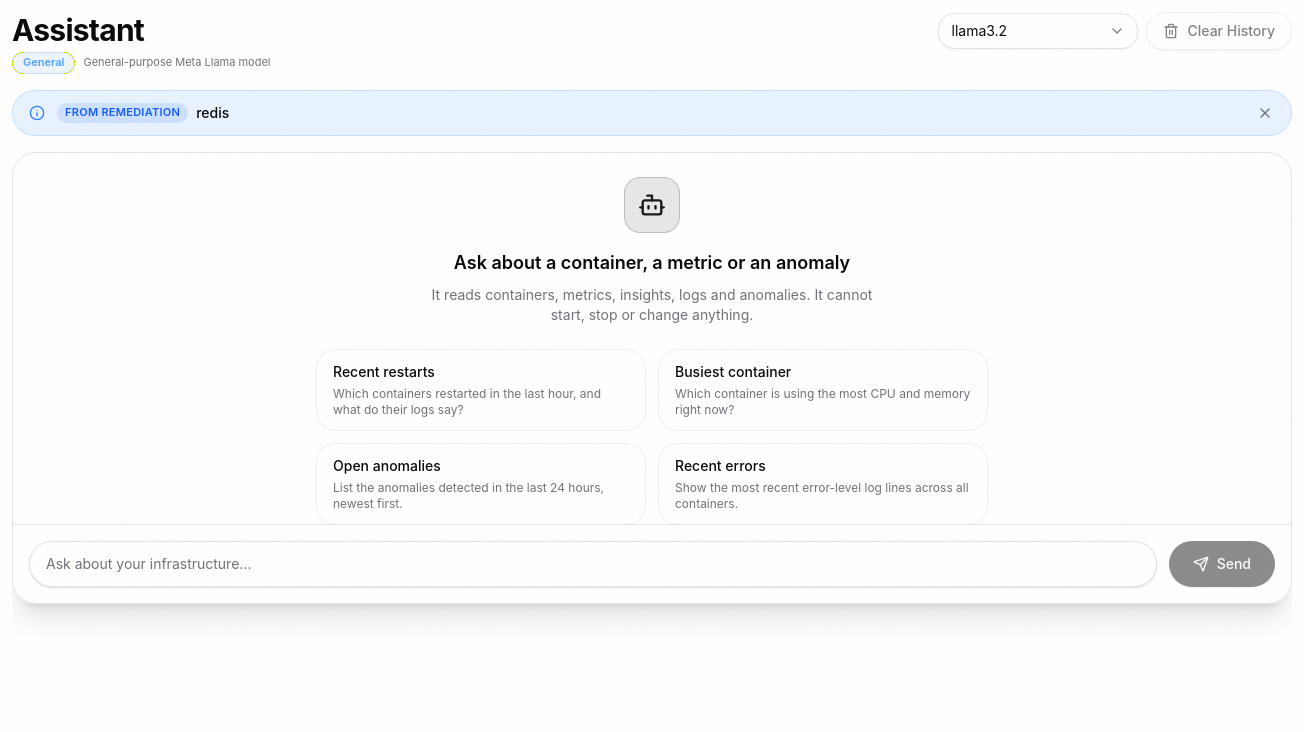
Connection status indicator › ContextBanner (Discuss with AI navigation) › dismisses context banner when X button is clicked
The image size is (1304, 732).
Expected: the message "From Remediation redis" is shown, 12,90 -> 1292,136
Step 1. Click the button named "Dismiss context banner" → (1265, 113), box 1255,103 -> 1275,123
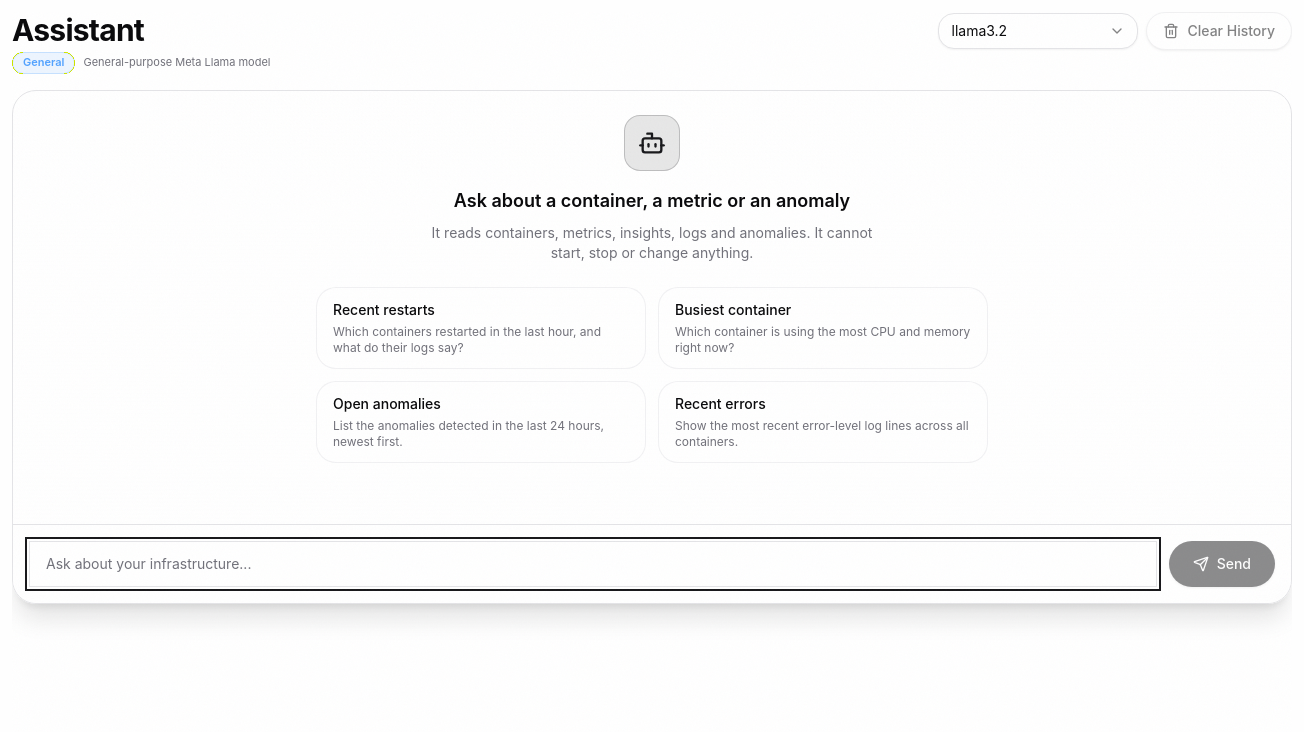
Expected: the message "From Remediation redis" is gone
